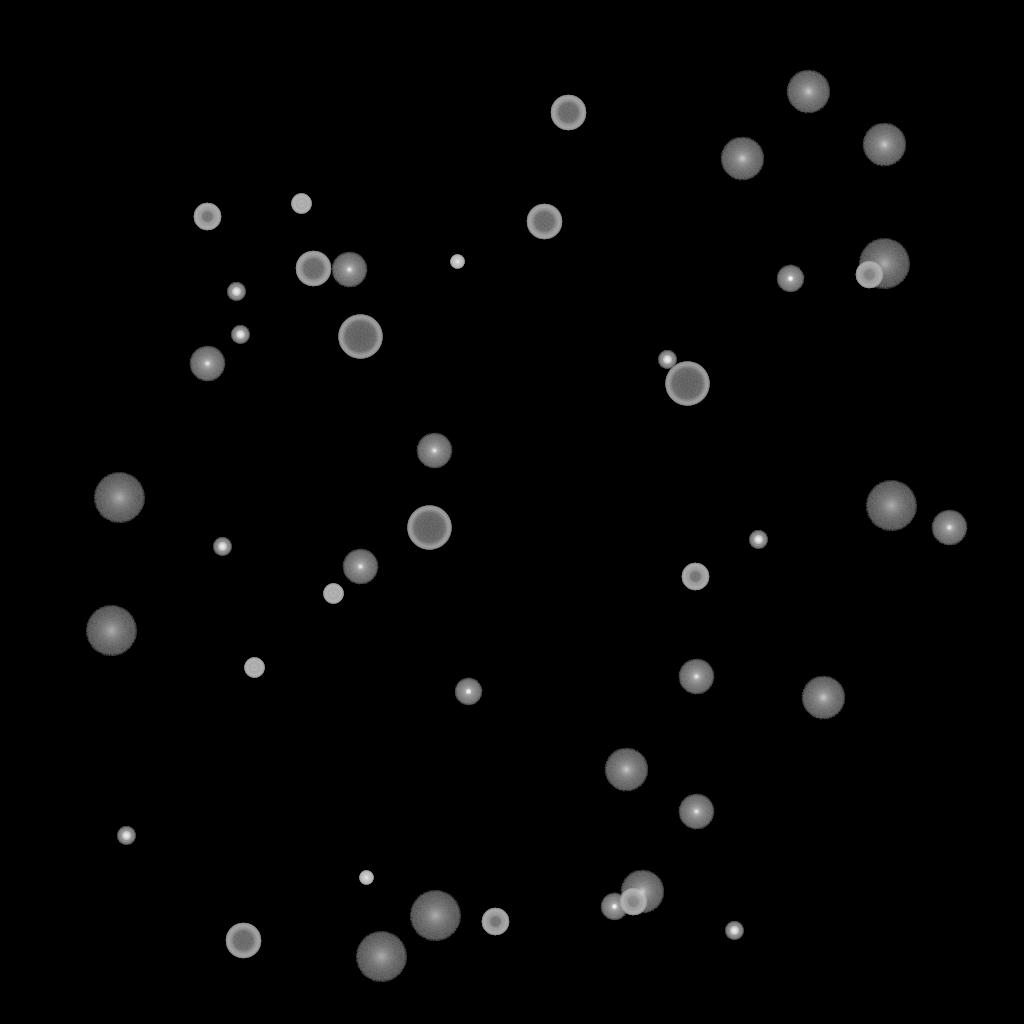depth:-10: (454, 678, 482, 706), (776, 265, 804, 293), (600, 893, 628, 921)
depth:-20: (213, 538, 231, 556), (749, 531, 767, 549), (725, 922, 743, 940), (231, 326, 249, 344), (658, 351, 676, 369), (227, 283, 245, 301), (117, 827, 135, 845)
depth:-30: (359, 871, 373, 885), (450, 255, 464, 269)
depth:-40: (291, 194, 311, 214), (323, 584, 343, 604), (244, 658, 264, 678)
depth:-50: (681, 563, 709, 591), (619, 888, 647, 916), (193, 203, 221, 231), (481, 908, 509, 936), (855, 261, 883, 289)
depth:-60: (526, 204, 562, 240), (295, 251, 331, 287), (225, 923, 261, 959), (550, 95, 586, 131)
depth:-70: (338, 315, 382, 359), (407, 506, 451, 550), (665, 362, 709, 406)
depth:0: (678, 659, 714, 695), (331, 252, 367, 288), (189, 346, 225, 382), (931, 510, 967, 546), (416, 433, 452, 469), (342, 549, 378, 585), (678, 794, 714, 830)
depth:10: (801, 676, 845, 720), (620, 870, 664, 914), (604, 748, 648, 792), (862, 123, 906, 167), (720, 137, 764, 181), (786, 70, 830, 114)
depth:20: (85, 606, 137, 656), (409, 891, 461, 941), (858, 239, 910, 289), (93, 473, 145, 523), (865, 481, 917, 531), (355, 932, 407, 982)
